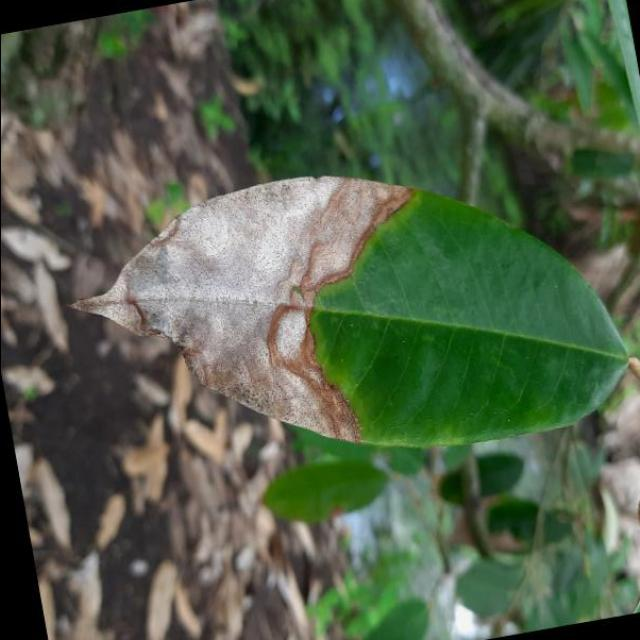Leaf Blight: (44, 118, 640, 523)
